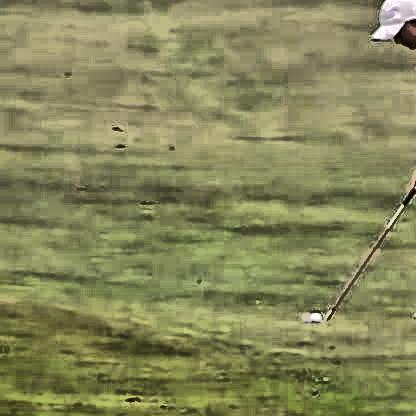golfball: (306, 310, 322, 321)
